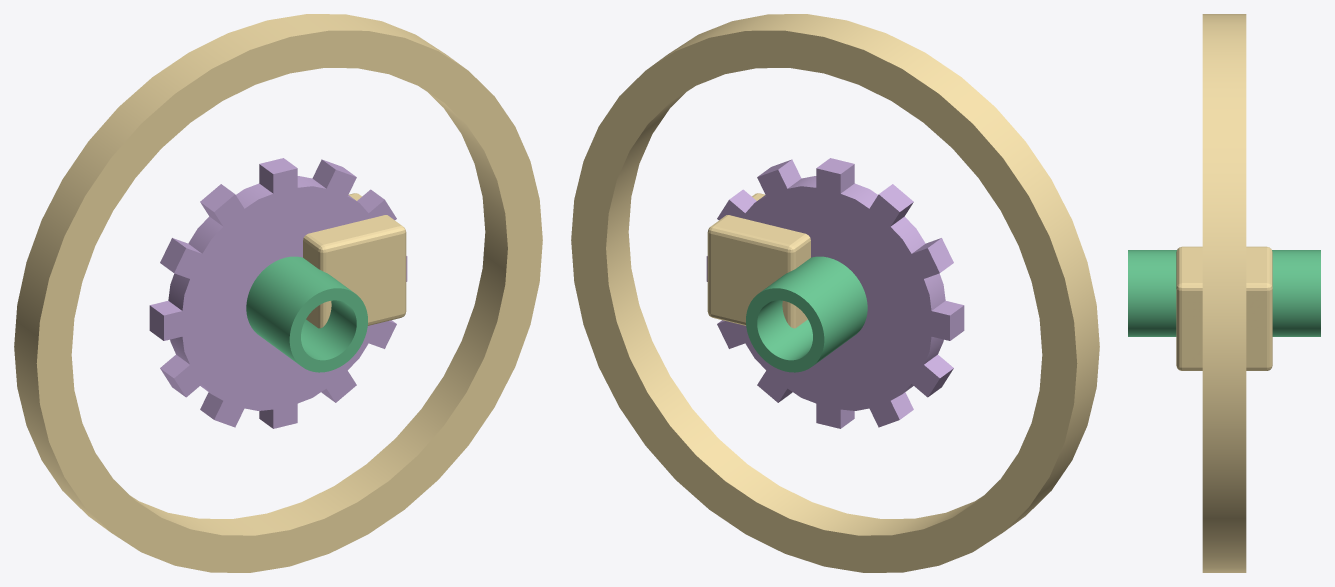
Rendered from obstacle-kit.glb.
The picture shows the model from 3 angles, left to right: view 1: azimuth 30°, elevation 25°; view 2: azimuth 150°, elevation 25°; view 3: azimuth 270°, elevation 25°; orthographic projection. The views are drawn at different scales.
Visible parts, largest first — view 1: RingModule, Gear, PipeStraight, RoundedPanel; view 2: RingModule, Gear, PipeStraight, RoundedPanel; view 3: RingModule, PipeStraight, RoundedPanel.
Part boxes in pixels (x1=…): RingModule: x1=14, y1=14, x2=542, y2=572; Gear: x1=149, y1=158, x2=407, y2=428; PipeStraight: x1=246, y1=256, x2=367, y2=372; RoundedPanel: x1=303, y1=193, x2=406, y2=328; RingModule: x1=571, y1=14, x2=1099, y2=572; Gear: x1=706, y1=158, x2=964, y2=428; PipeStraight: x1=746, y1=256, x2=867, y2=372; RoundedPanel: x1=707, y1=193, x2=810, y2=328; RingModule: x1=1202, y1=14, x2=1246, y2=572; PipeStraight: x1=1128, y1=250, x2=1320, y2=336; RoundedPanel: x1=1176, y1=246, x2=1272, y2=370.
Bounding box in the file's own units: 5.8 × 5.8 × 2.
